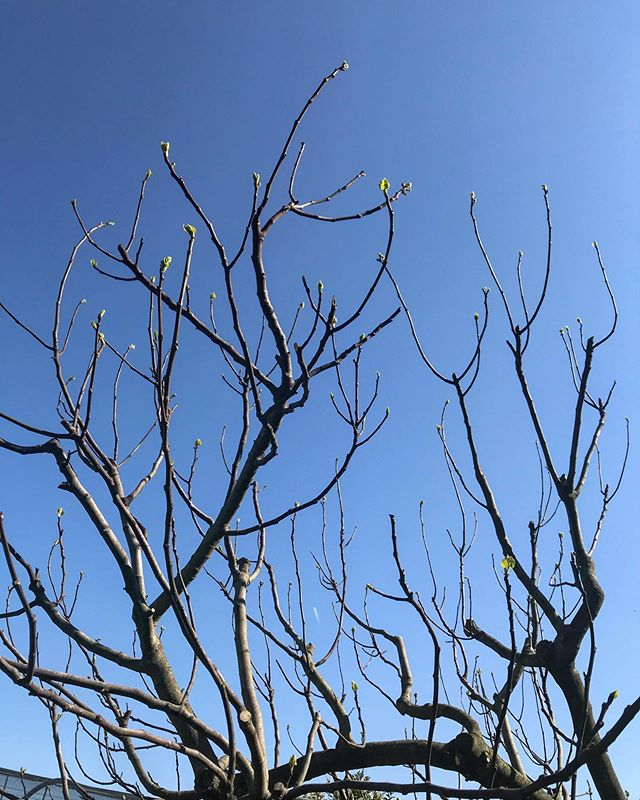sky: (1, 1, 616, 574)
tree: (74, 230, 624, 800)
